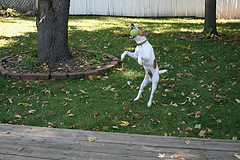tennis ball: (128, 28, 138, 37)
